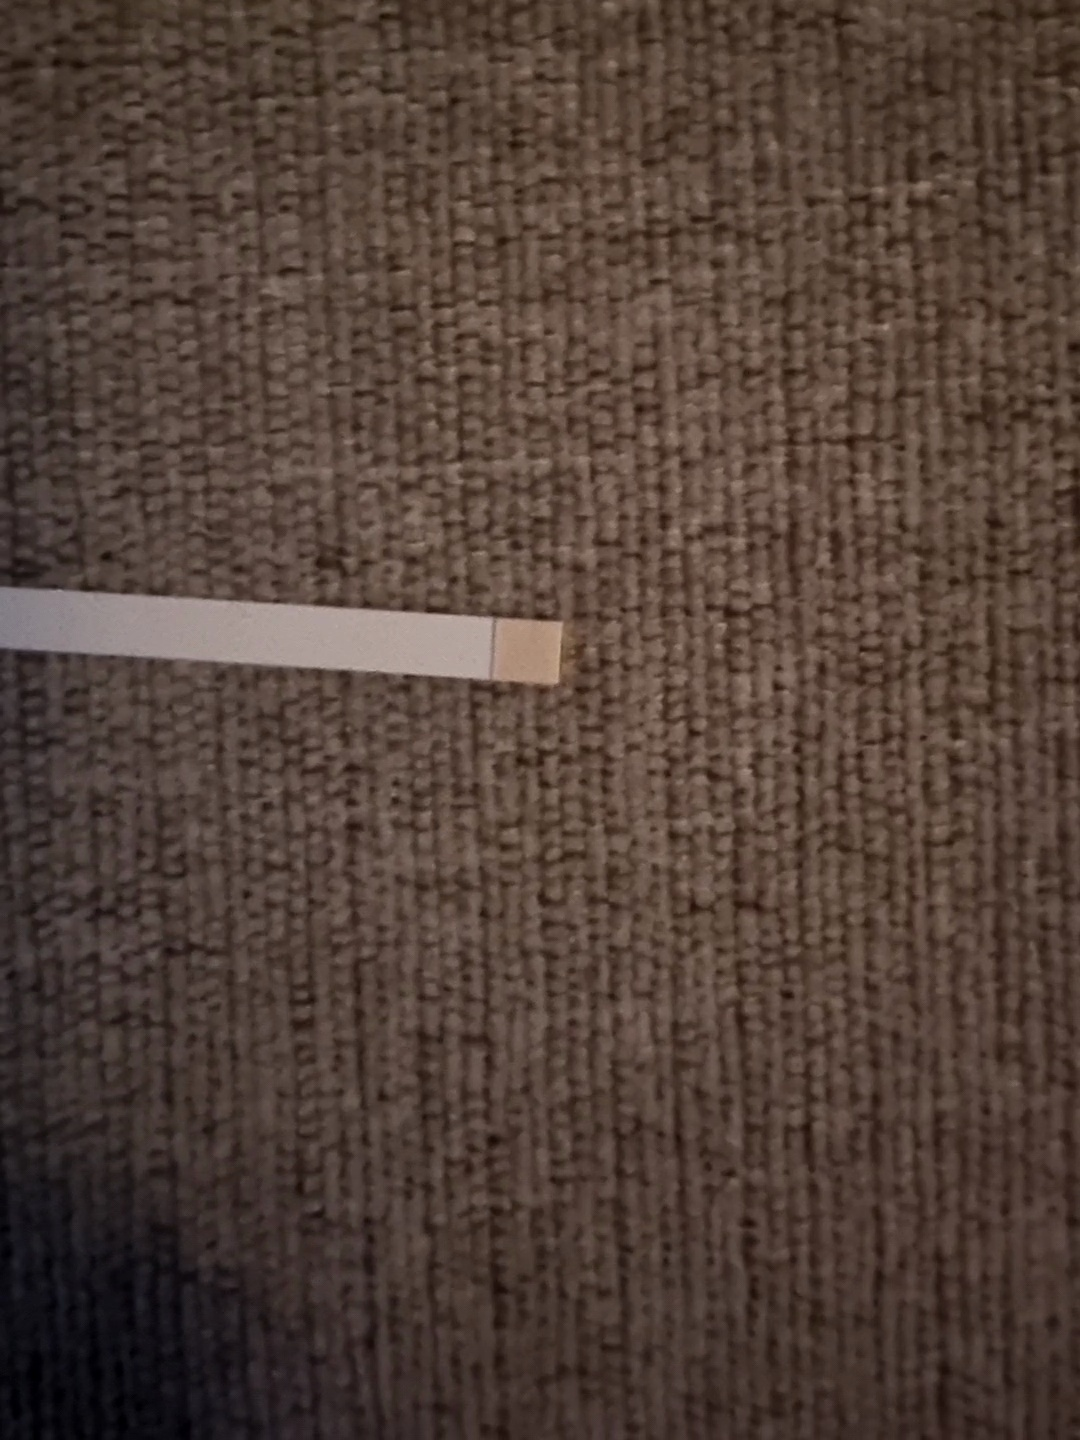keto-tip: (487, 612, 569, 694)
